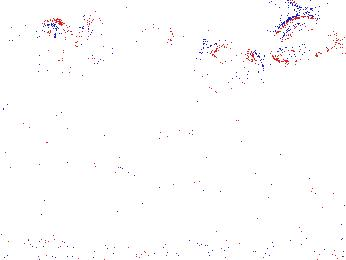moon jellyfish: (13, 19, 75, 93), (85, 1, 174, 46), (198, 42, 265, 98), (268, 14, 339, 64)
